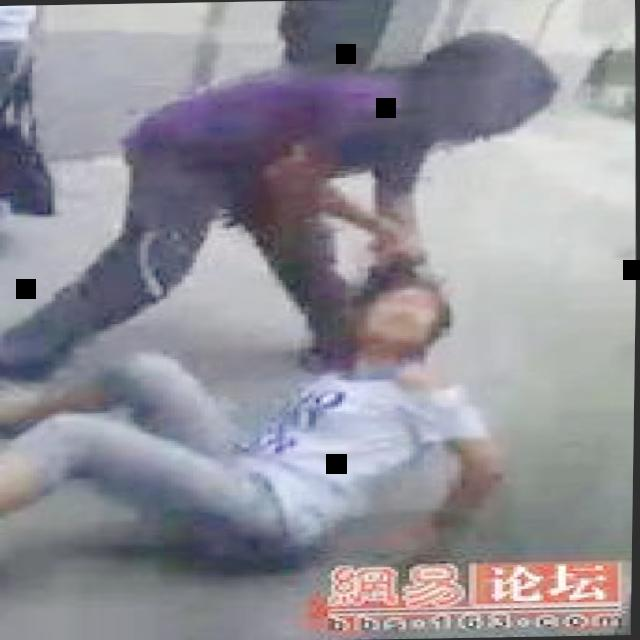Fall-Detected: (0, 226, 503, 594)
